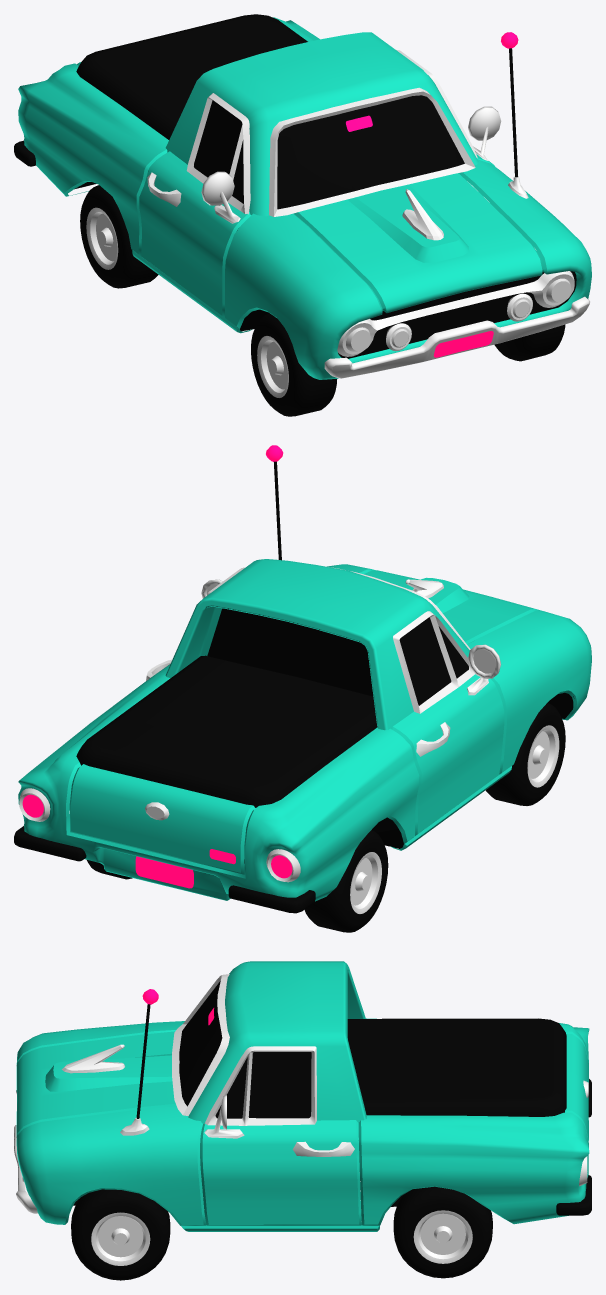
File: ute.glb
The picture shows the model from 3 angles, top to bottom: view 1: azimuth 30°, elevation 25°; view 2: azimuth 150°, elevation 25°; view 3: azimuth 270°, elevation 25°; orthographic projection. The views are drawn at different scales.
Visible parts, largest first — view 1: Body, Hood, Front Glass, Cab, Trunk Cover, Doors, Tire.fr, Tire.br, Front Bumber, Front Grill, Side Glass, Headlight Rim (+8 smaller); view 2: Body, Trunk Cover, Cab, Trunk, Doors, Rear Window, Tire.br, Tire.fr, Hood, Side Glass, Rear Bumper, Side Glass Rim (+7 smaller); view 3: Body, Trunk Cover, Cab, Doors, Hood, Tire.fl, Tire.bl, Side Glass, Front Glass, Side Glass Rim, Trunk, Body Side Bottom (+5 smaller).
Part boxes in pixels (box(x1,y1,x2,y2)): Body: box(18, 17, 591, 379); Hood: box(294, 173, 543, 312); Front Glass: box(269, 87, 475, 216); Cab: box(165, 32, 478, 216); Trunk Cover: box(76, 14, 307, 139); Doors: box(139, 151, 494, 317); Tire.fr: box(251, 313, 336, 416); Tire.br: box(80, 185, 158, 288); Front Bumber: box(324, 296, 589, 378); Front Grill: box(338, 271, 576, 358); Side Glass: box(194, 100, 243, 203); Headlight Rim: box(337, 271, 574, 356); Body: box(18, 564, 591, 901); Trunk Cover: box(76, 655, 377, 807); Cab: box(165, 559, 469, 730); Trunk: box(69, 764, 255, 874); Doors: box(149, 664, 504, 835); Rear Window: box(207, 608, 373, 696); Tire.br: box(304, 830, 388, 932); Tire.fr: box(485, 703, 565, 805); Hood: box(364, 570, 539, 644); Side Glass: box(399, 617, 468, 705); Rear Bumper: box(14, 826, 315, 913); Side Glass Rim: box(207, 567, 474, 713); Body: box(16, 1018, 589, 1225); Trunk Cover: box(347, 1018, 566, 1116); Cab: box(188, 961, 366, 1123); Doors: box(200, 1120, 361, 1225); Hood: box(16, 1031, 176, 1137); Tire.fl: box(71, 1189, 170, 1280); Tire.bl: box(393, 1186, 492, 1278); Side Glass: box(215, 1052, 311, 1118); Front Glass: box(172, 974, 229, 1115); Side Glass Rim: box(204, 1046, 316, 1125); Trunk: box(565, 1034, 588, 1140); Body Side Bottom: box(181, 1225, 379, 1231).
Size of the model in its own units: 2.46 by 2.43 by 4.44.
